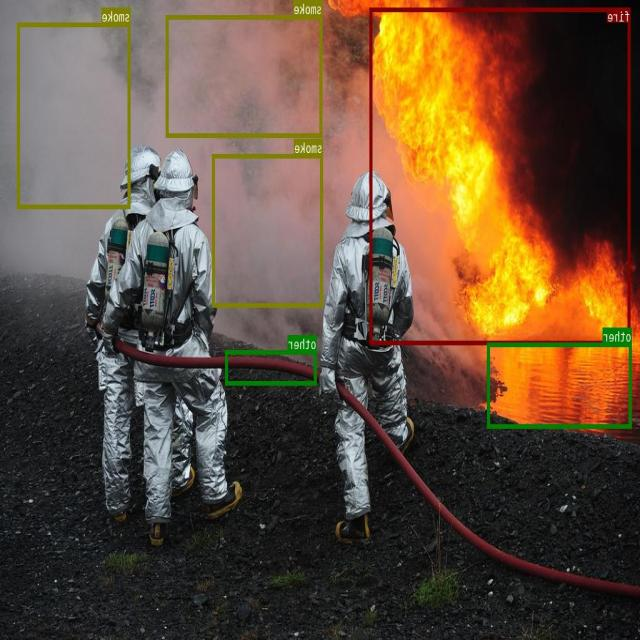fire: (370, 7, 631, 344)
other: (488, 342, 632, 427), (226, 349, 317, 384)
smoke: (18, 23, 131, 208), (166, 15, 322, 136), (213, 154, 323, 306)
